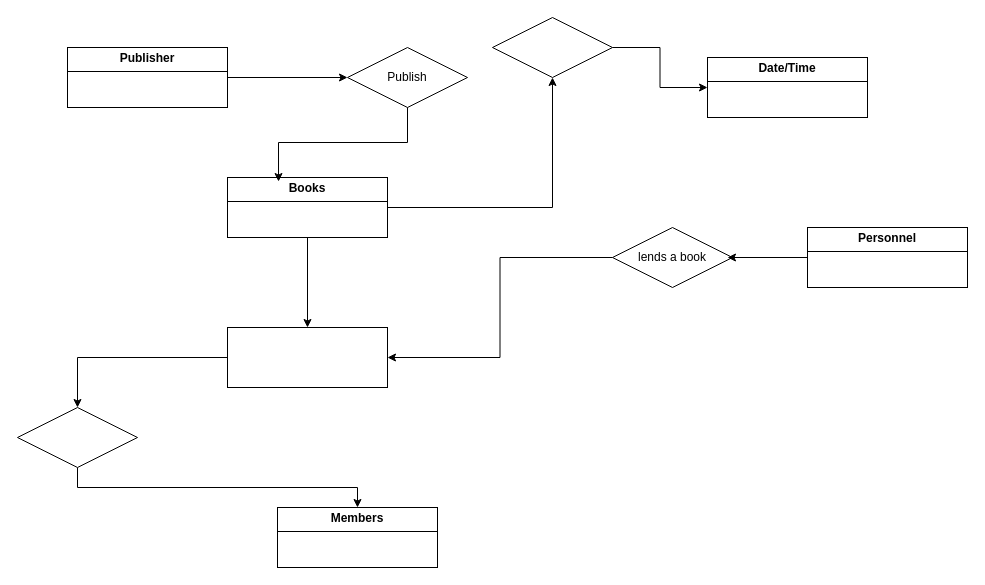
Image size: 985x585. Some labels were removed from this diagram. Here are the shapes that lost their labels. From the top down, the box of each, then its label:
(492, 16, 612, 78): Borrow time
(226, 326, 388, 388): Loans
(16, 406, 138, 468): borrows
